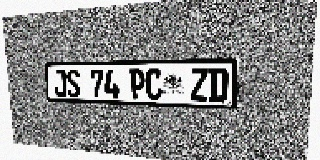4: (104, 69, 119, 99)
7: (90, 69, 105, 98)
C: (145, 69, 162, 100)
D: (209, 68, 228, 102)
J: (53, 70, 67, 97)
P: (129, 69, 146, 99)
S: (66, 70, 80, 97)
Z: (190, 68, 208, 101)
